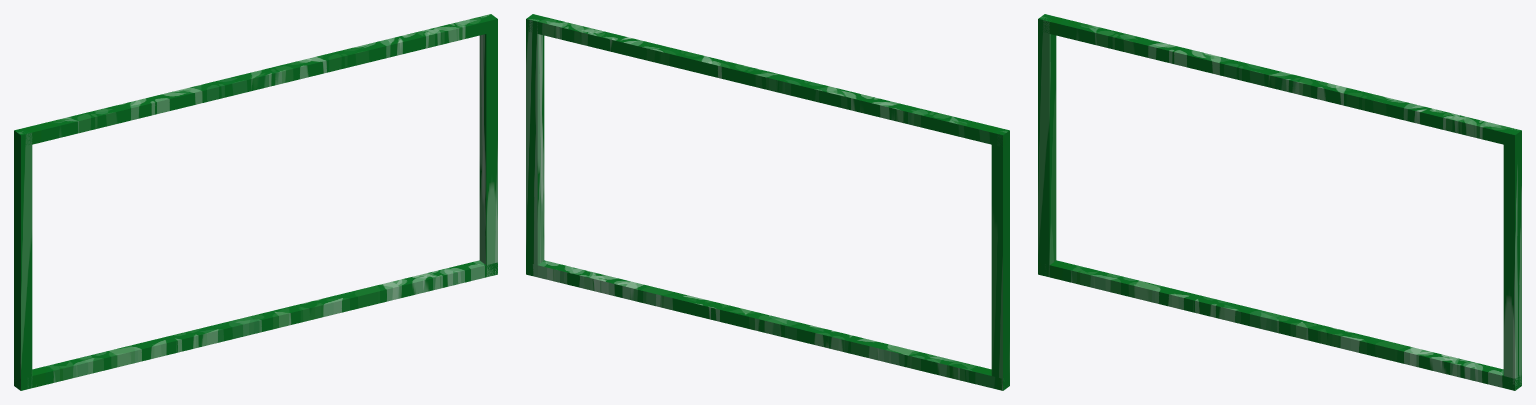
The model's file is map.obj.
The picture shows the model from 3 angles, left to right: view 1: azimuth 30°, elevation 25°; view 2: azimuth 150°, elevation 25°; view 3: azimuth 330°, elevation 25°; orthographic projection.
Parts seen in each view (by area): view 1: 立方体.003; view 2: 立方体.003; view 3: 立方体.003.
Boxes of the visible parts, <box> form: 立方体.003: <box>14,14,497,390</box>; 立方体.003: <box>526,14,1009,390</box>; 立方体.003: <box>1038,14,1521,390</box>.
Bounding box in the file's own units: 82 × 42 × 2.
1 material, 1 textured.
